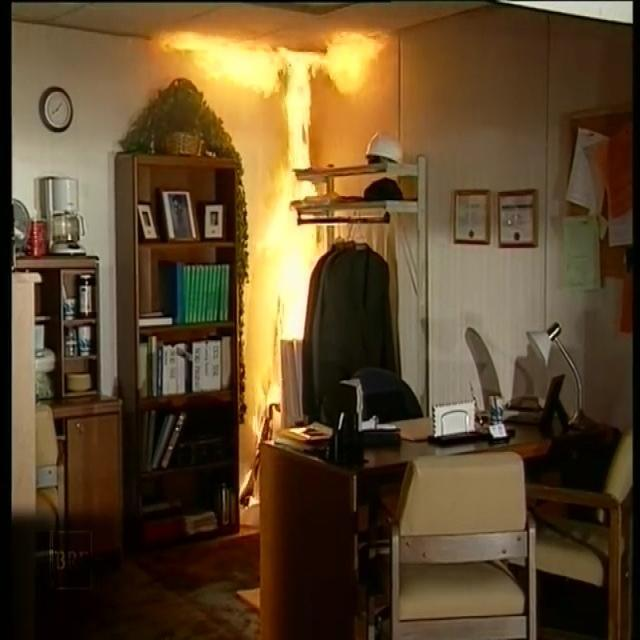Fire: (119, 0, 450, 451)
